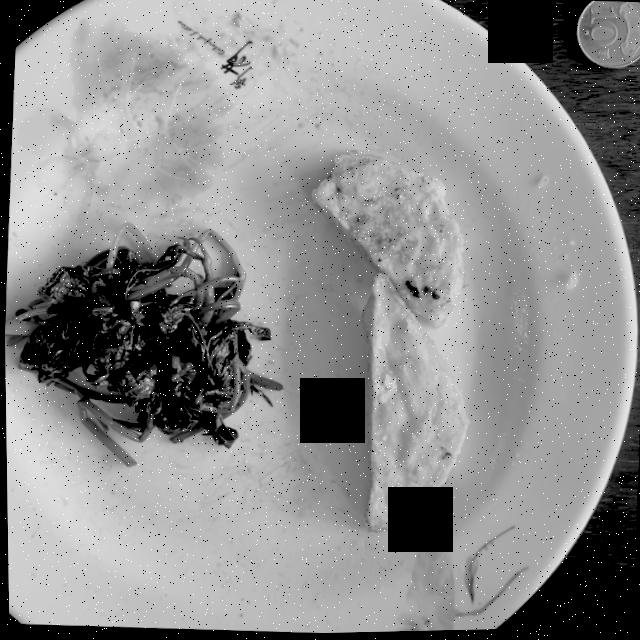coin: (575, 3, 640, 71)
sweet potato leaves: (4, 223, 280, 468)
